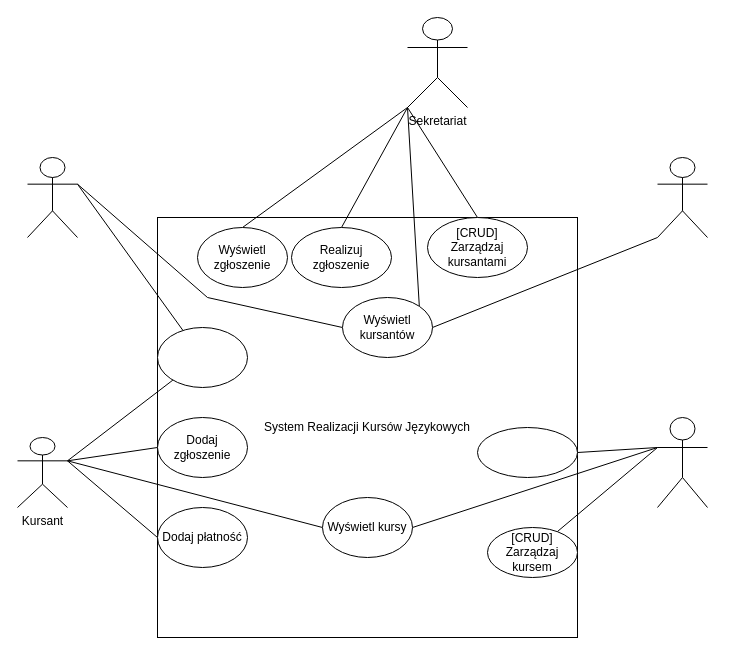
Image size: 748x655. Some labels were removed from this diagram. Each missing label, with the centre of its shape:
[CRUD] Zarządzaj nauczycielem: (527,452)
Dział Zarządzania: (682,462)
Księgowość: (682,197)
Nauczyciel: (52,197)
Wyświetl oceny: (202,357)
